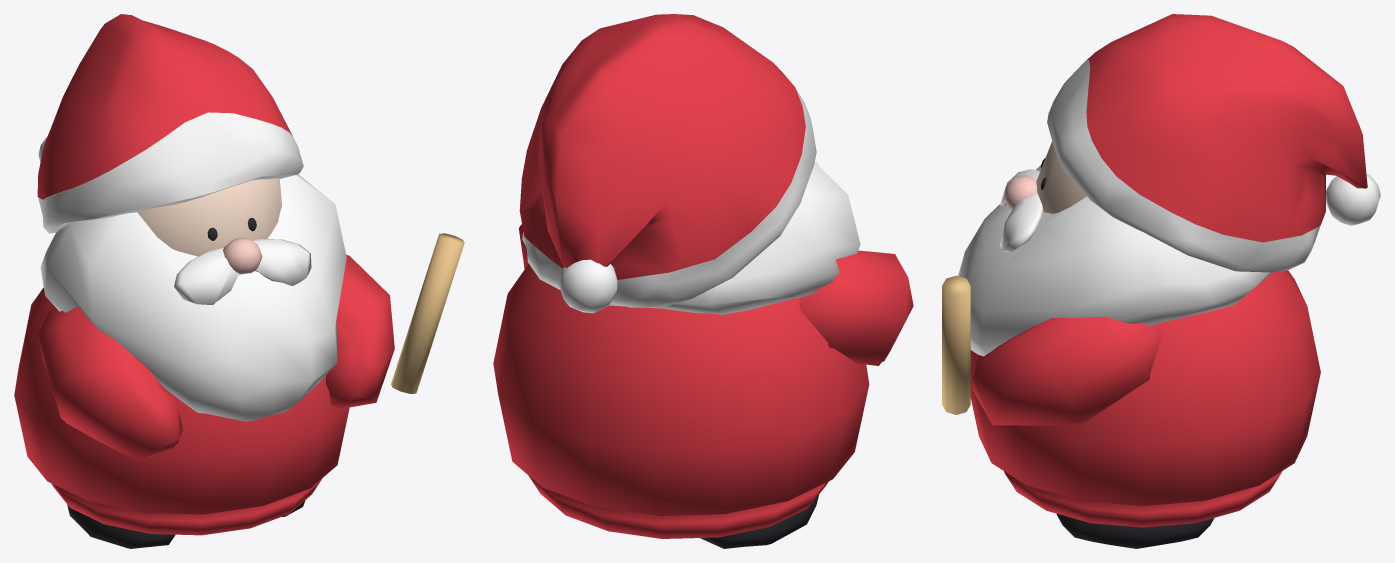
Rendered from churros.glb.
3 views of the same model, side by side, from view 1: azimuth 30°, elevation 25°; view 2: azimuth 150°, elevation 25°; view 3: azimuth 270°, elevation 25° (orthographic). The views are drawn at different scales.
Parts seen in each view (by area): view 1: churros_red, churros_white, churros_skin, churros_bread, churros_black, churros_nose; view 2: churros_red, churros_white, churros_black; view 3: churros_red, churros_white, churros_bread, churros_black, churros_skin, churros_nose.
Part boxes in pixels (x1,y1,x2,y2): churros_red: (14, 14, 394, 535); churros_white: (38, 112, 346, 421); churros_skin: (137, 178, 281, 256); churros_bread: (391, 233, 464, 393); churros_black: (67, 218, 305, 548); churros_nose: (223, 238, 262, 274); churros_red: (493, 14, 913, 538); churros_white: (522, 70, 860, 314); churros_black: (700, 495, 818, 548); churros_red: (970, 14, 1367, 527); churros_white: (958, 59, 1380, 356); churros_bread: (942, 275, 970, 414); churros_black: (1041, 158, 1214, 548); churros_skin: (1036, 98, 1155, 213); churros_nose: (1004, 175, 1037, 209).
Bounding box in the file's own units: 2.39 × 2.98 × 2.47.
